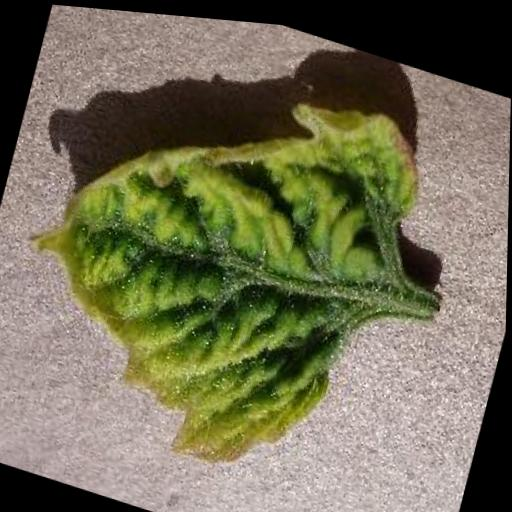Yellow Leaf Curl Virus: (0, 10, 437, 501)
